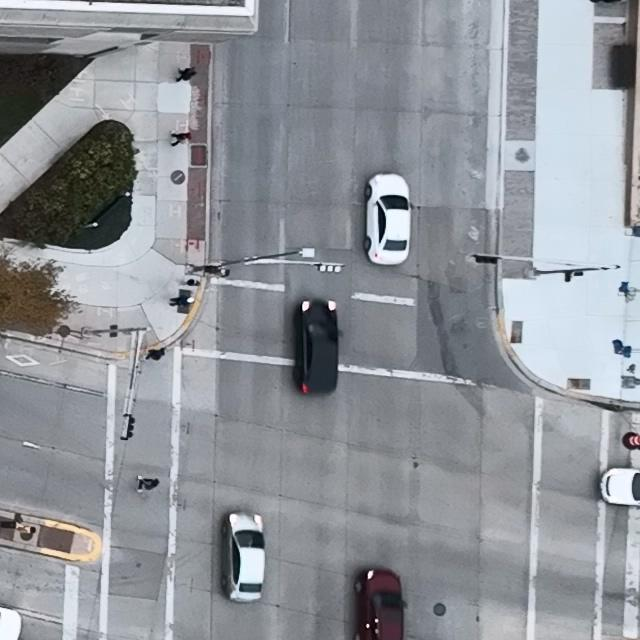car: (292, 297, 342, 396), (362, 173, 414, 266), (222, 511, 266, 602), (354, 567, 408, 640), (600, 468, 640, 508)
